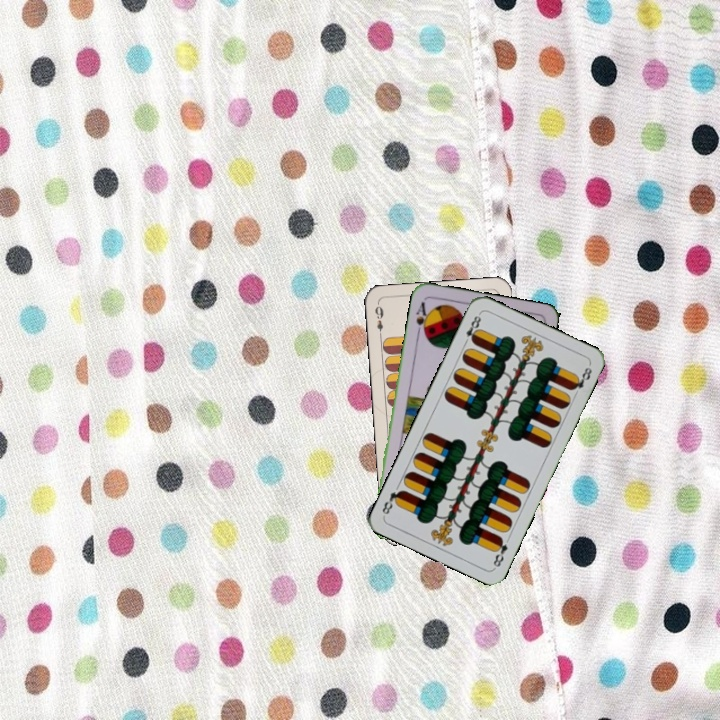E8: (460, 310, 484, 348), (489, 533, 510, 570)
E9: (371, 302, 386, 341)
SA: (412, 298, 432, 338)
